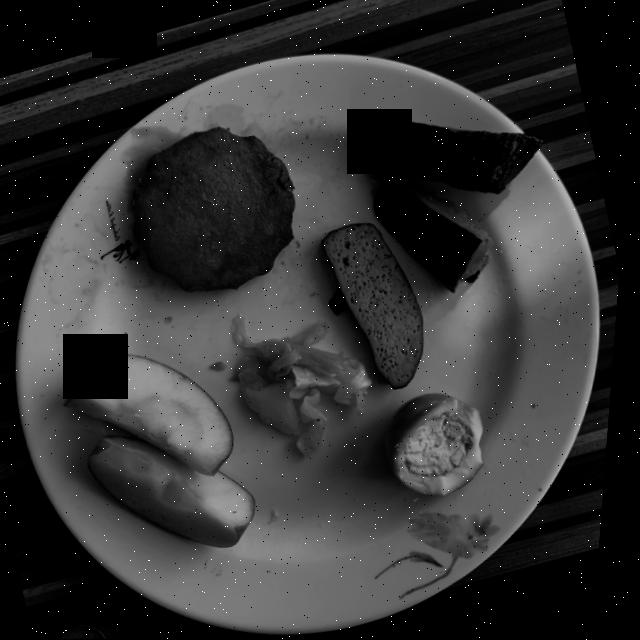Spam: (134, 127, 297, 292)
apple -sliced-: (70, 353, 262, 548)
cabbage: (235, 316, 376, 458)
coin: (66, 624, 116, 639)
firm tofu: (325, 223, 428, 389)
pumpkin: (375, 120, 543, 291)
soy egg: (391, 394, 489, 496)
